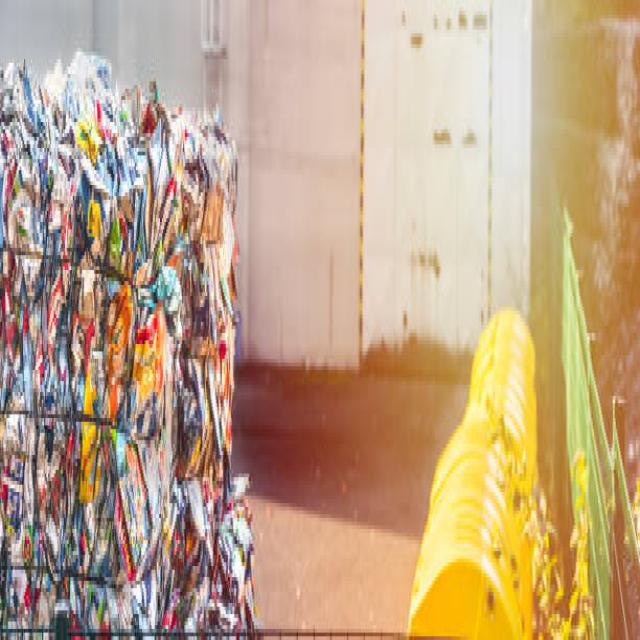plastic: (4, 85, 251, 636)
